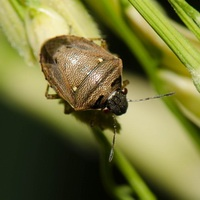insect: (40, 34, 128, 114)
